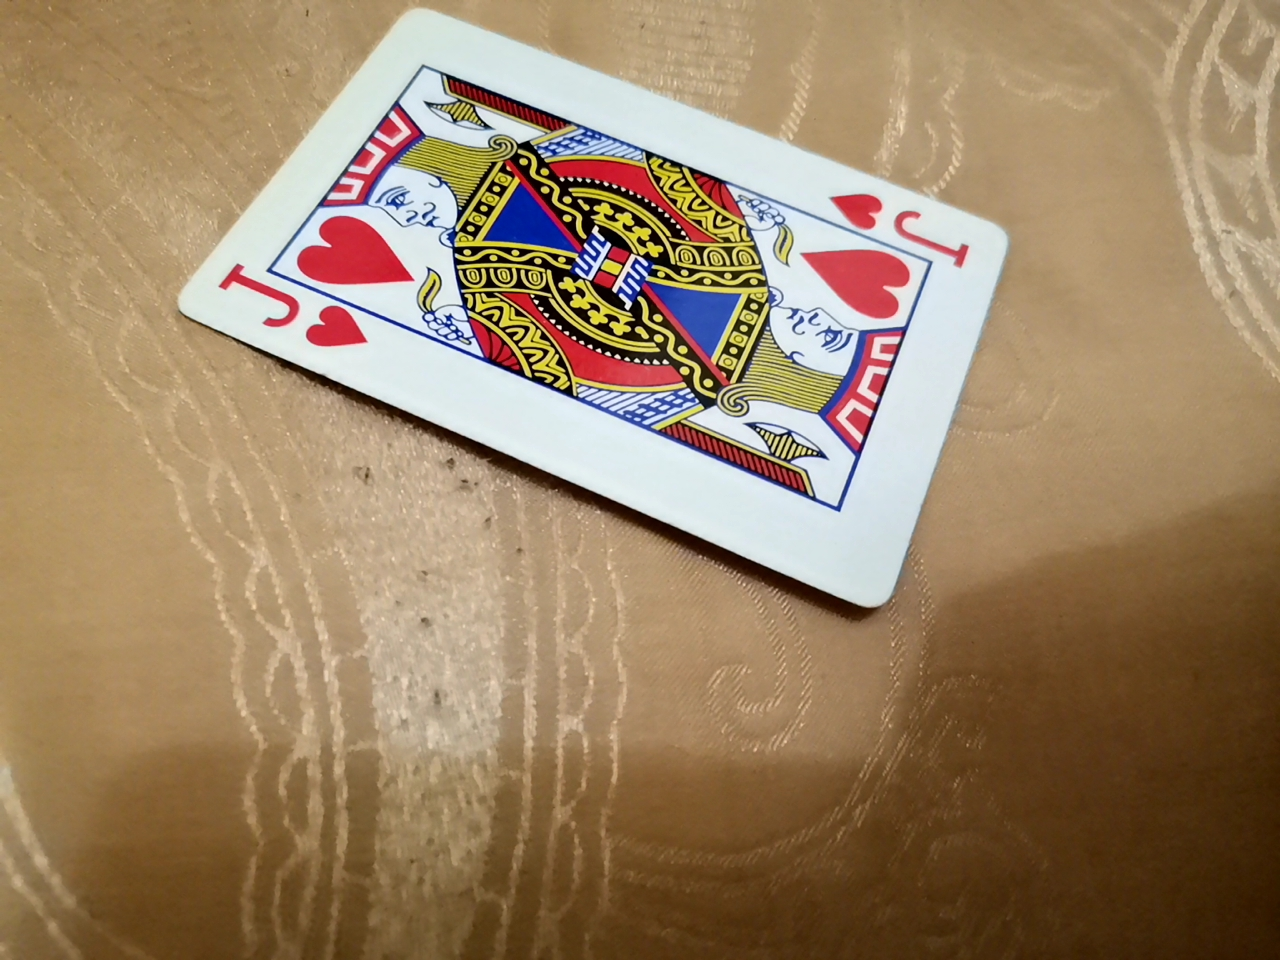hx j: (173, 108, 1007, 700)
